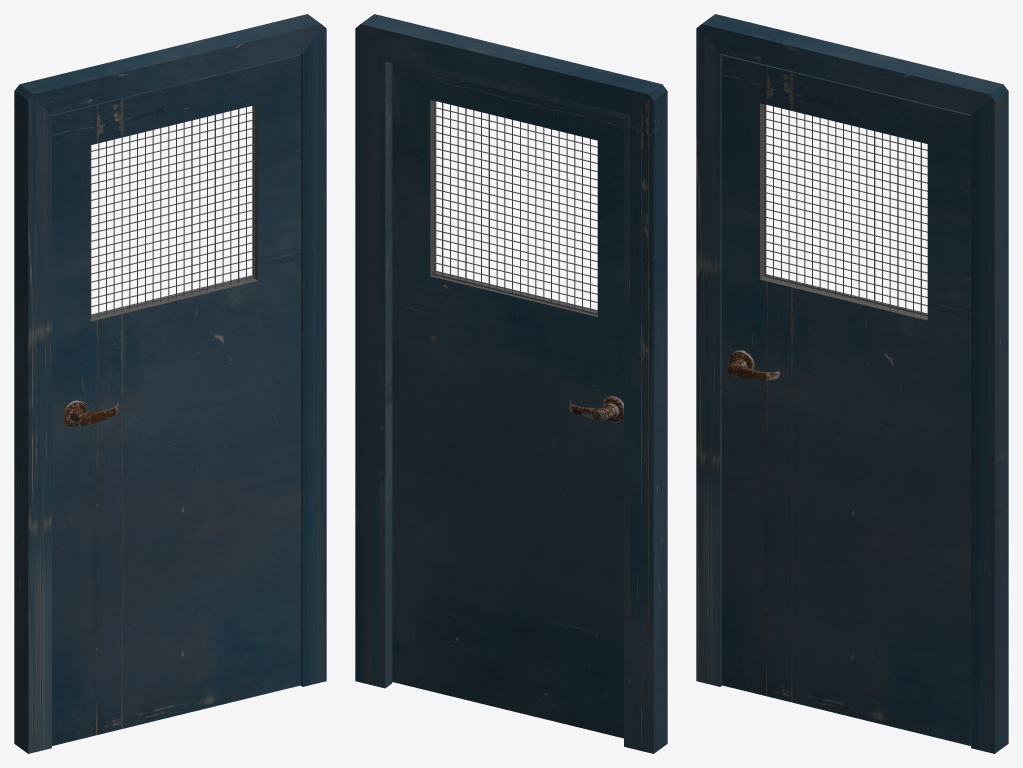
File: door.glb
3 views of the same model, side by side, from view 1: azimuth 30°, elevation 25°; view 2: azimuth 150°, elevation 25°; view 3: azimuth 330°, elevation 25° (orthographic).
Parts seen in each view (by area): view 1: Door, DoorFrame; view 2: Door, DoorFrame; view 3: Door, DoorFrame.
Boxes of the visible parts, bbox=[...] form: Door: bbox=[52, 54, 301, 745]; DoorFrame: bbox=[14, 14, 326, 753]; Door: bbox=[392, 63, 623, 738]; DoorFrame: bbox=[355, 14, 667, 753]; Door: bbox=[721, 54, 970, 745]; DoorFrame: bbox=[696, 14, 1008, 753].
Bounding box in the file's own units: 1.21 × 2.56 × 0.2051.
Materials: 3 (2 with a texture image).
